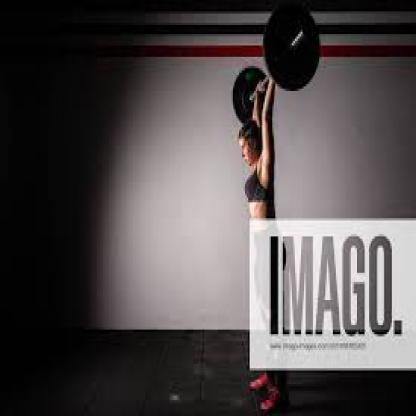barbell: (231, 8, 321, 127)
